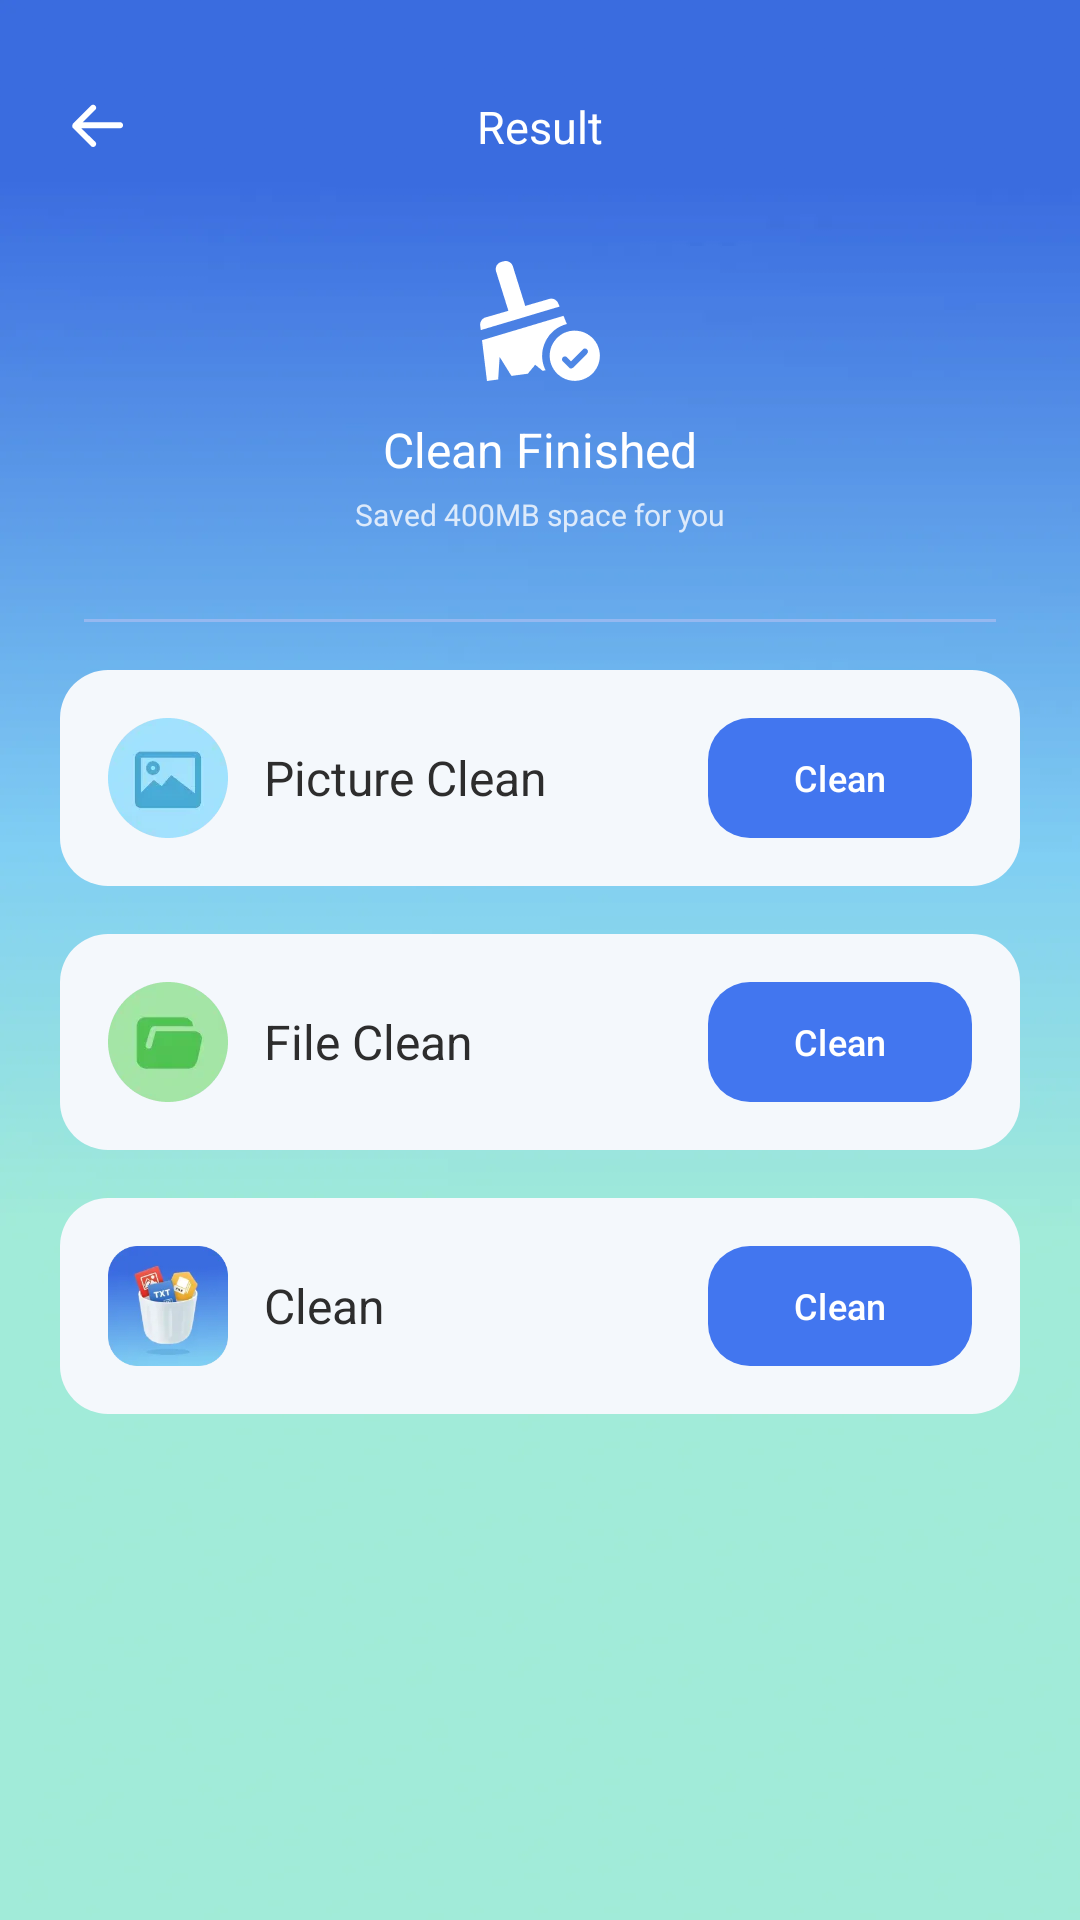

Icons on this 1080 x 1920 Android screen, each with the point to tap as (x=x, y=y):
back tui: (x=97, y=125)
file main: (x=168, y=1042)
pic main: (x=168, y=778)
